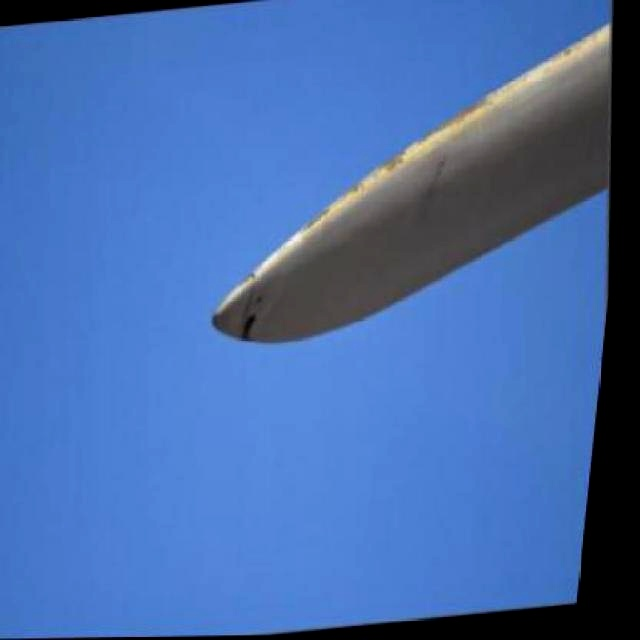Burn Mark: (244, 314, 265, 338)
EROSION: (191, 42, 543, 260)
